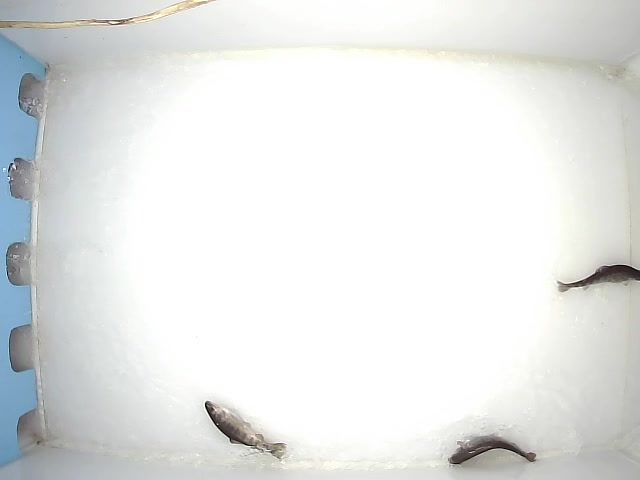fish: (202, 397, 289, 461), (446, 433, 537, 465), (554, 262, 640, 295)
